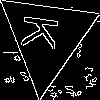K: (21, 13, 67, 53)
